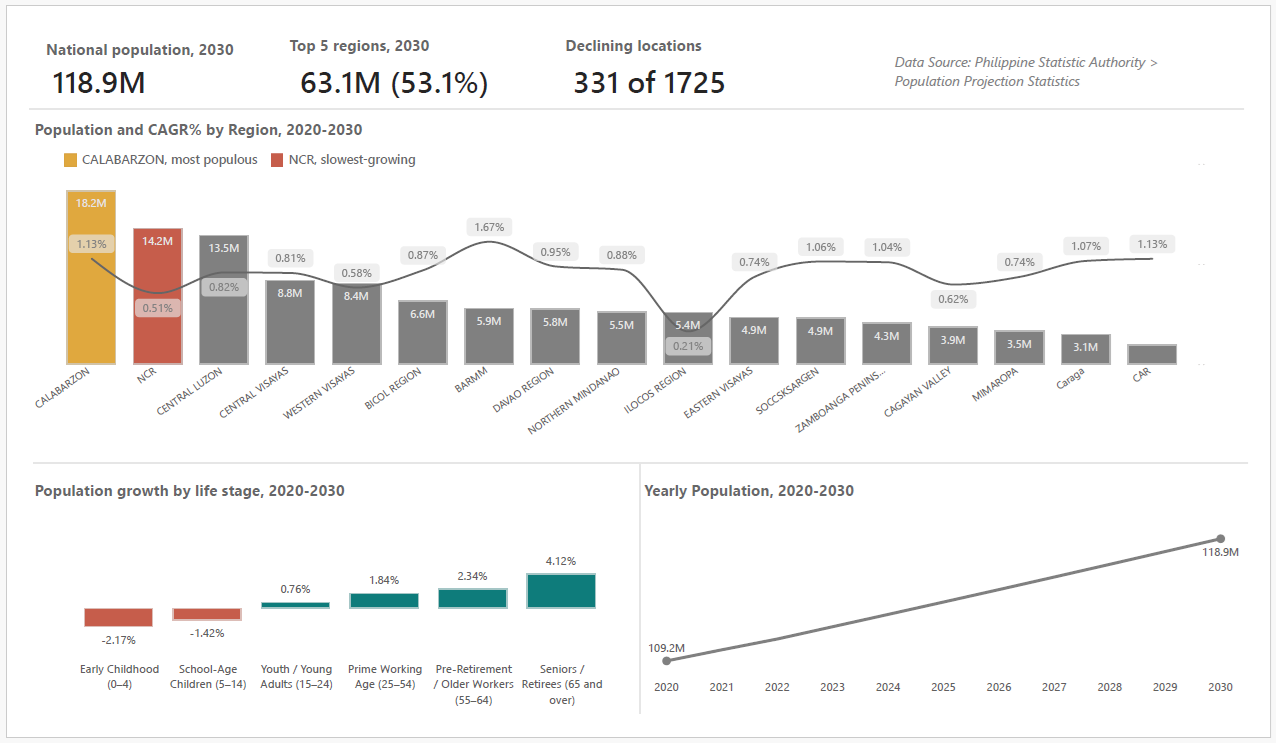

Layout of this report page (visuals, bound fields, positions):
{"tool":"powerbi","page":{"name":"Overview","canvas":[1280,720],"ordinal":0},"visuals":[{"type":"shape","box":[35.7,130.5,14,14],"z":0,"group":"g4"},{"type":"columnChart","title":"Population growth by life stage, 2020-2030","fields":{"Y":["Measures - Age Group.CAGR % (Age Group)"],"Category":["dimAgeGroup.Life-Stage"]},"box":[0,473.8,638.8,246.2],"z":0},{"type":"lineStackedColumnComboChart","title":"Population and CAGR% by Region, 2020-2030","fields":{"Category":["dimRegion.Region Nickname"],"Y2":["Measures - Component.CAGR % (Component)"],"Y":["Measures - Component.Population (End Year, Component)"]},"box":[0,95,1277.5,337.5],"z":1000},{"type":"cardVisual","title":"National population, 2030","fields":{"Data":["Measures - Component.Top 5 Region Card Label"]},"box":[271,5.5,265.1,82.5],"z":1500,"group":"g2"},{"type":"cardVisual","title":"National population, 2030","fields":{"Data":["Measures - Component.Declining Location Label"]},"box":[557.5,5.5,275.7,82.9],"z":1500,"group":"g3"},{"type":"textbox","box":[271,5.5,207.4,35.6],"z":1750,"group":"g2"},{"type":"textbox","box":[557.5,5.5,215.7,35.7],"z":1750,"group":"g3"},{"type":"group","id":"g1","title":"Group 5","box":[10.9,5.5,217.1,82.9],"z":2000},{"type":"cardVisual","title":"National population, 2030","fields":{"Data":["Measures - Age Group.Population (End Year, Age Group)"]},"box":[10.9,5.5,217.1,82.9],"z":2000,"group":"g1"},{"type":"textbox","box":[12.3,5.5,215.7,35.7],"z":3000,"group":"g1"},{"type":"group","id":"g2","title":"Group 6","box":[271,5.5,265,82.5],"z":3000},{"type":"shape","box":[252.8,130.8,14,14],"z":3000,"group":"g4"},{"type":"group","id":"g3","title":"Group 7","box":[557.5,5.5,275.7,82.9],"z":4000},{"type":"shape","box":[0,61.4,1275.7,45.7],"z":5000},{"type":"lineChart","title":"Yearly Population, 2020-2030","fields":{"Category":["dimYear.Year"],"Y":["Measures - Component.First Last Year Label","Measures - Component.Population"]},"box":[641.2,473.8,638.8,236.2],"z":6000},{"type":"group","id":"g4","title":"Group 1","box":[35.7,122.9,385.7,30],"z":7000},{"type":"textbox","box":[49.7,122.9,203.4,29.2],"z":7000,"group":"g4"},{"type":"shape","box":[3.8,432.5,1276.2,46.2],"z":8000},{"type":"textbox","box":[266.8,123.1,155,29.2],"z":9000,"group":"g4"},{"type":"shape","box":[522.9,455.7,237.1,264.3],"z":9000},{"type":"textbox","box":[904.3,18.6,340,65.7],"z":10000}]}

Visuals, with their boxes on the page's 1280x720 design canvas (x1, y1, x2, y2). These are canvas units, not pixel positions in the 1276x743 screenshot, which may show the page scaled, cropped or inside an application window:
shape: <bbox>36, 130, 50, 144</bbox>
"Population growth by life stage, 2020-2030" columnChart: <bbox>0, 474, 639, 720</bbox>
"Population and CAGR% by Region, 2020-2030" lineStackedColumnComboChart: <bbox>0, 95, 1278, 432</bbox>
"National population, 2030" cardVisual: <bbox>271, 6, 536, 88</bbox>
"National population, 2030" cardVisual: <bbox>558, 6, 833, 88</bbox>
textbox: <bbox>271, 6, 478, 41</bbox>
textbox: <bbox>558, 6, 773, 41</bbox>
"Group 5" group: <bbox>11, 6, 228, 88</bbox>
"National population, 2030" cardVisual: <bbox>11, 6, 228, 88</bbox>
textbox: <bbox>12, 6, 228, 41</bbox>
"Group 6" group: <bbox>271, 6, 536, 88</bbox>
shape: <bbox>253, 131, 267, 145</bbox>
"Group 7" group: <bbox>558, 6, 833, 88</bbox>
shape: <bbox>0, 61, 1276, 107</bbox>
"Yearly Population, 2020-2030" lineChart: <bbox>641, 474, 1280, 710</bbox>
"Group 1" group: <bbox>36, 123, 421, 153</bbox>
textbox: <bbox>50, 123, 253, 152</bbox>
shape: <bbox>4, 432, 1280, 479</bbox>
textbox: <bbox>267, 123, 422, 152</bbox>
shape: <bbox>523, 456, 760, 720</bbox>
textbox: <bbox>904, 19, 1244, 84</bbox>
